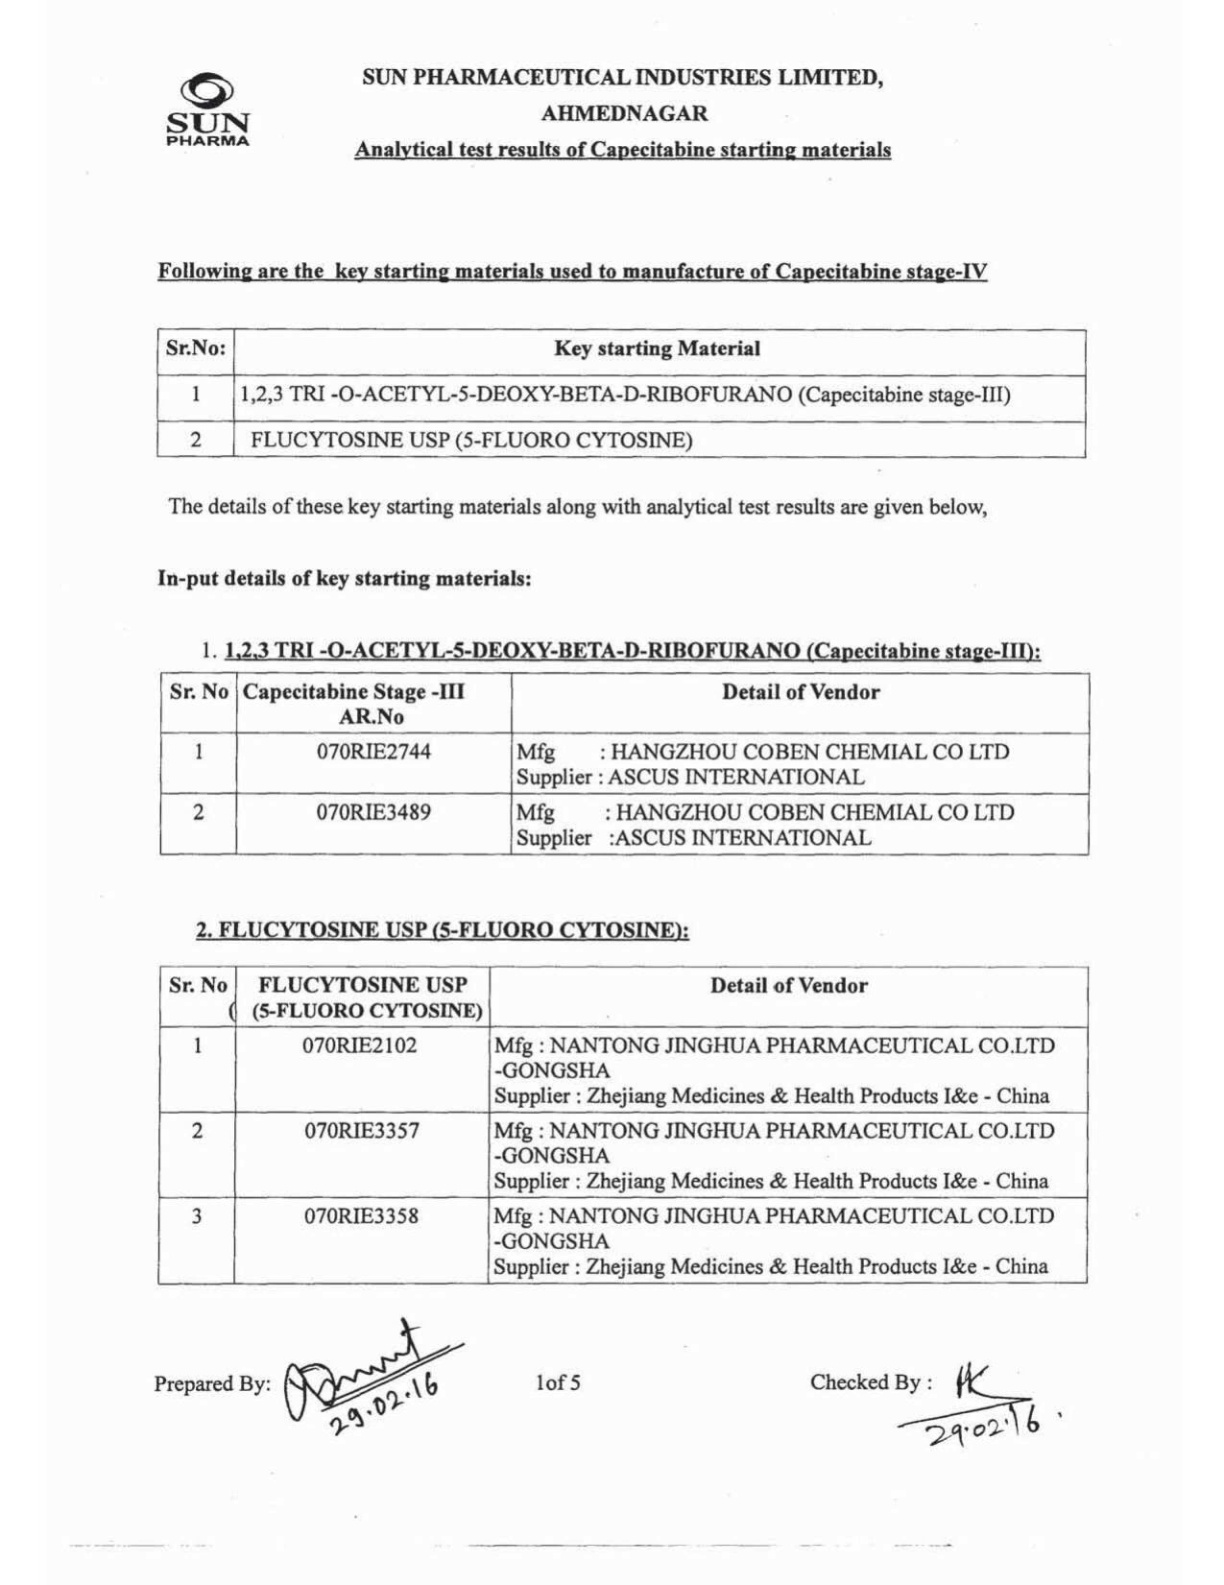full_lined: (157, 965, 1089, 1285), (159, 670, 1092, 857), (156, 327, 1088, 458)
